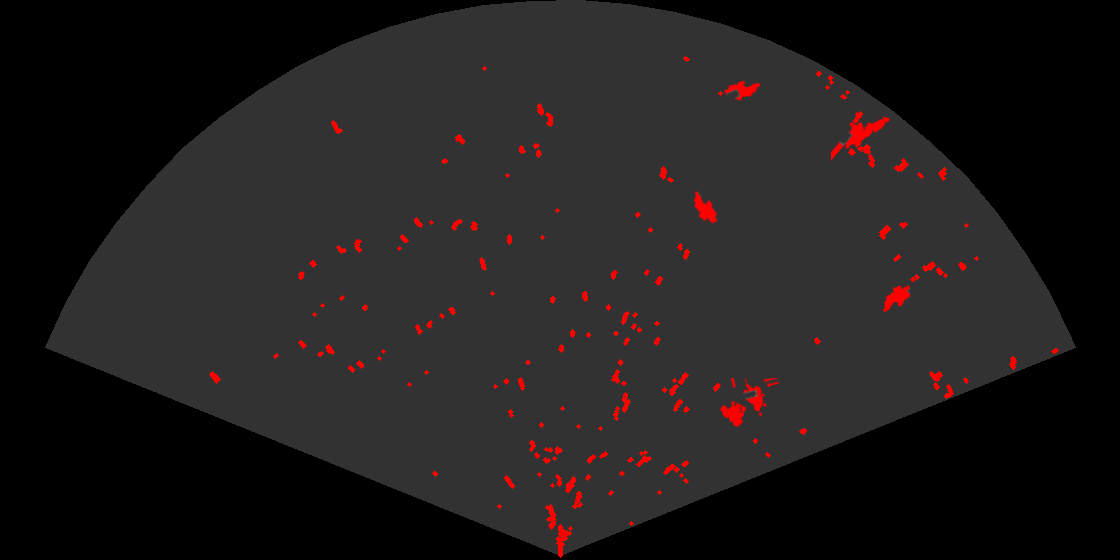AUV: (692, 189, 719, 225), (881, 283, 912, 314), (722, 79, 763, 102)
cage: (718, 378, 779, 429)
frogman: (831, 115, 891, 161)
